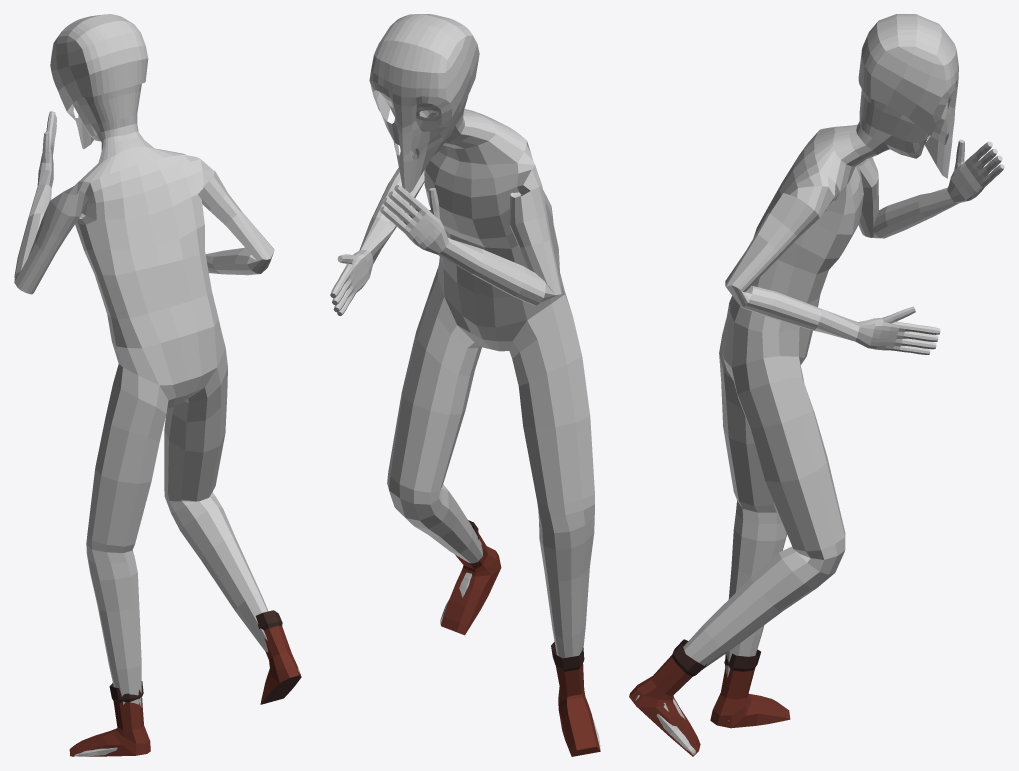
Rendered from correr_000162.obj.
3 renders of one model, left to right at view 1: azimuth 30°, elevation 25°; view 2: azimuth 150°, elevation 25°; view 3: azimuth 270°, elevation 25°, orthographic. The views are drawn at different scales.
Visible parts, largest first — view 1: Plane.002_Plane.001, Plane.004, Plane.003; view 2: Plane.002_Plane.001, Plane.004, Plane.003; view 3: Plane.002_Plane.001, Plane.003, Plane.004.
Boxes of the visible parts, x1,y1,x2,y2 form: Plane.002_Plane.001: [14, 14, 299, 756]; Plane.004: [69, 681, 150, 756]; Plane.003: [256, 610, 301, 704]; Plane.002_Plane.001: [330, 14, 600, 748]; Plane.004: [551, 641, 600, 756]; Plane.003: [441, 520, 501, 635]; Plane.002_Plane.001: [635, 14, 1004, 755]; Plane.003: [629, 639, 706, 756]; Plane.004: [710, 649, 790, 728].
Bounding box in the file's own units: 2.11 × 6.82 × 3.14.
